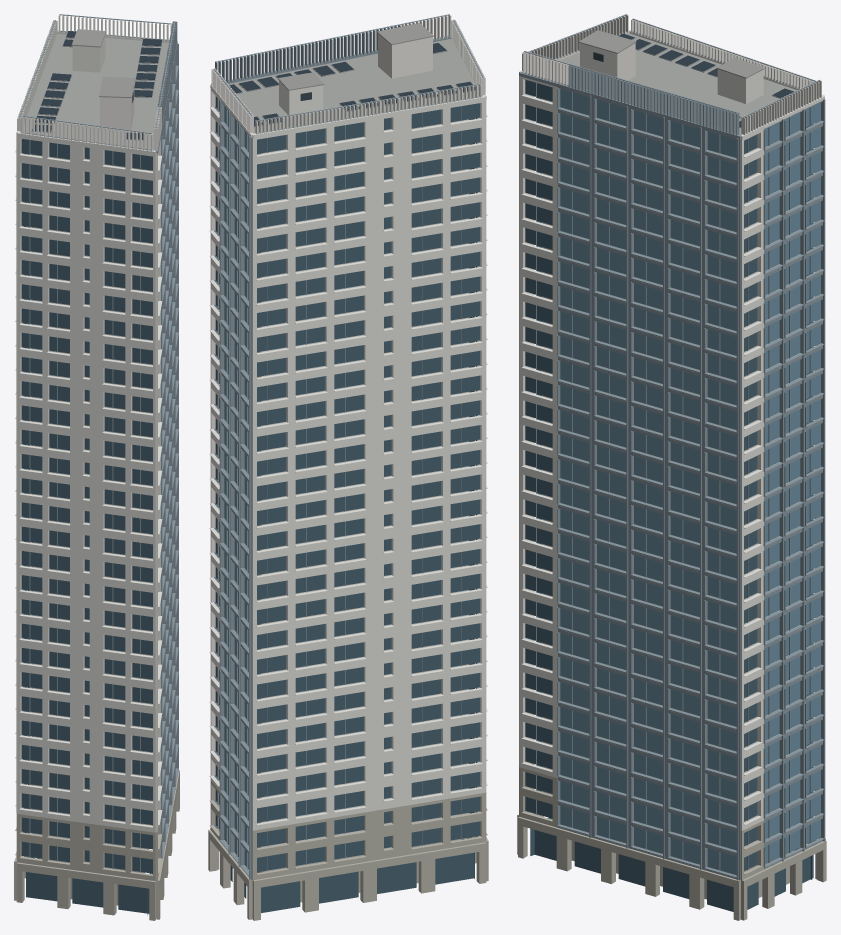
Rendered from bespoke-maple-xi-112.glb.
The picture shows the model from 3 angles, left to right: view 1: azimuth 30°, elevation 25°; view 2: azimuth 150°, elevation 25°; view 3: azimuth 270°, elevation 25°; orthographic projection. The views are drawn at different scales.
Parts seen in each view (by area): view 1: Maple112_numbered_plan_inset_body, Maple112_e0_outer_glass, Maple112_e0_outer_unequal_sash, Maple112_recessed_stone_lobby, Maple112_numbered_plan_roof, Maple112_PV_cells, Maple112_e1_dark_spandrel_joint, Maple112_PV_frame; view 2: Maple112_numbered_plan_inset_body, Maple112_e0_outer_glass, Maple112_e0_outer_unequal_sash, Maple112_recessed_stone_lobby, Maple112_numbered_plan_roof, Maple112_e1_dark_glass, Maple112_PV_cells, Maple112_e1_dark_spandrel_joint; view 3: Maple112_e1_dark_glass, Maple112_e0_outer_unequal_sash, Maple112_numbered_plan_inset_body, Maple112_e0_outer_glass, Maple112_recessed_stone_lobby, Maple112_e1_dark_spandrel_joint, Maple112_numbered_plan_roof, Maple112_PV_cells.
Boxes of the visible parts, x1,y1,x2,y2 form: Maple112_numbered_plan_inset_body: (15,14,172,872); Maple112_e0_outer_glass: (21,139,152,915); Maple112_e0_outer_unequal_sash: (18,14,178,872); Maple112_recessed_stone_lobby: (14,770,179,920); Maple112_numbered_plan_roof: (23,34,168,150); Maple112_PV_cells: (32,31,161,139); Maple112_e1_dark_spandrel_joint: (71,29,135,97); Maple112_PV_frame: (31,31,162,140); Maple112_numbered_plan_inset_body: (209,14,487,871); Maple112_e0_outer_glass: (215,96,479,912); Maple112_e0_outer_unequal_sash: (211,14,483,879); Maple112_recessed_stone_lobby: (208,763,488,920); Maple112_numbered_plan_roof: (228,38,478,133); Maple112_e1_dark_glass: (215,106,248,869); Maple112_PV_cells: (229,43,475,126); Maple112_e1_dark_spandrel_joint: (278,23,433,90); Maple112_e1_dark_glass: (560,89,820,874); Maple112_e0_outer_unequal_sash: (519,14,825,880); Maple112_numbered_plan_inset_body: (519,14,824,850); Maple112_e0_outer_glass: (525,79,813,911); Maple112_recessed_stone_lobby: (517,763,826,920); Maple112_e1_dark_spandrel_joint: (558,30,822,878); Maple112_numbered_plan_roof: (558,33,796,134); Maple112_PV_cells: (619,33,793,126).
Bounding box in the file's own units: 28.17 × 98.82 × 33.91.
